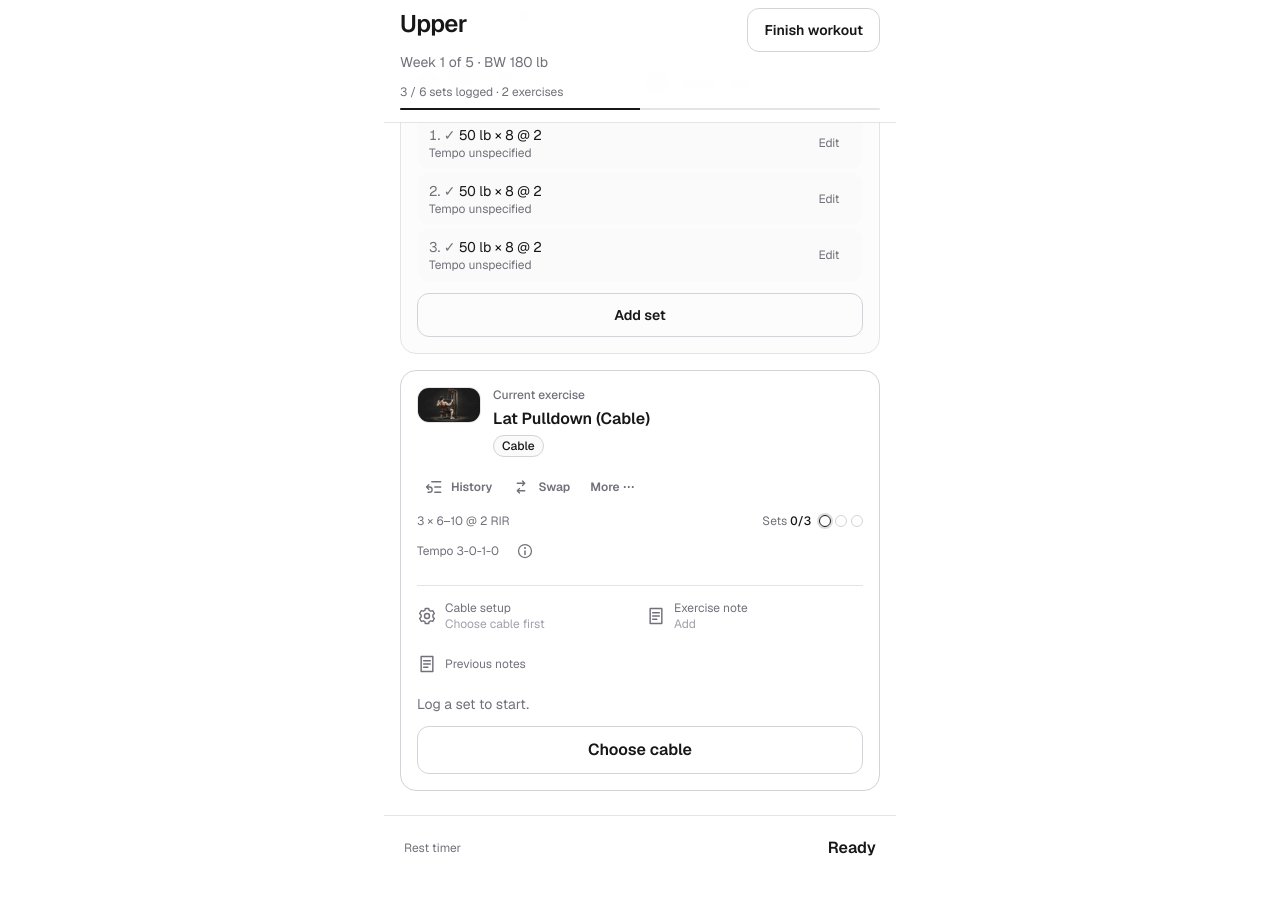
active workout set progress › offers direct station selection for lat-pulldown after the previous exercise completes
(page scrolled)
Check: the element named "Lat Pulldown (Cable) Cable" shows "Current exercise", box [493, 387, 585, 403]
Click the button "Choose cable" at point(640, 750), box [417, 726, 863, 774]
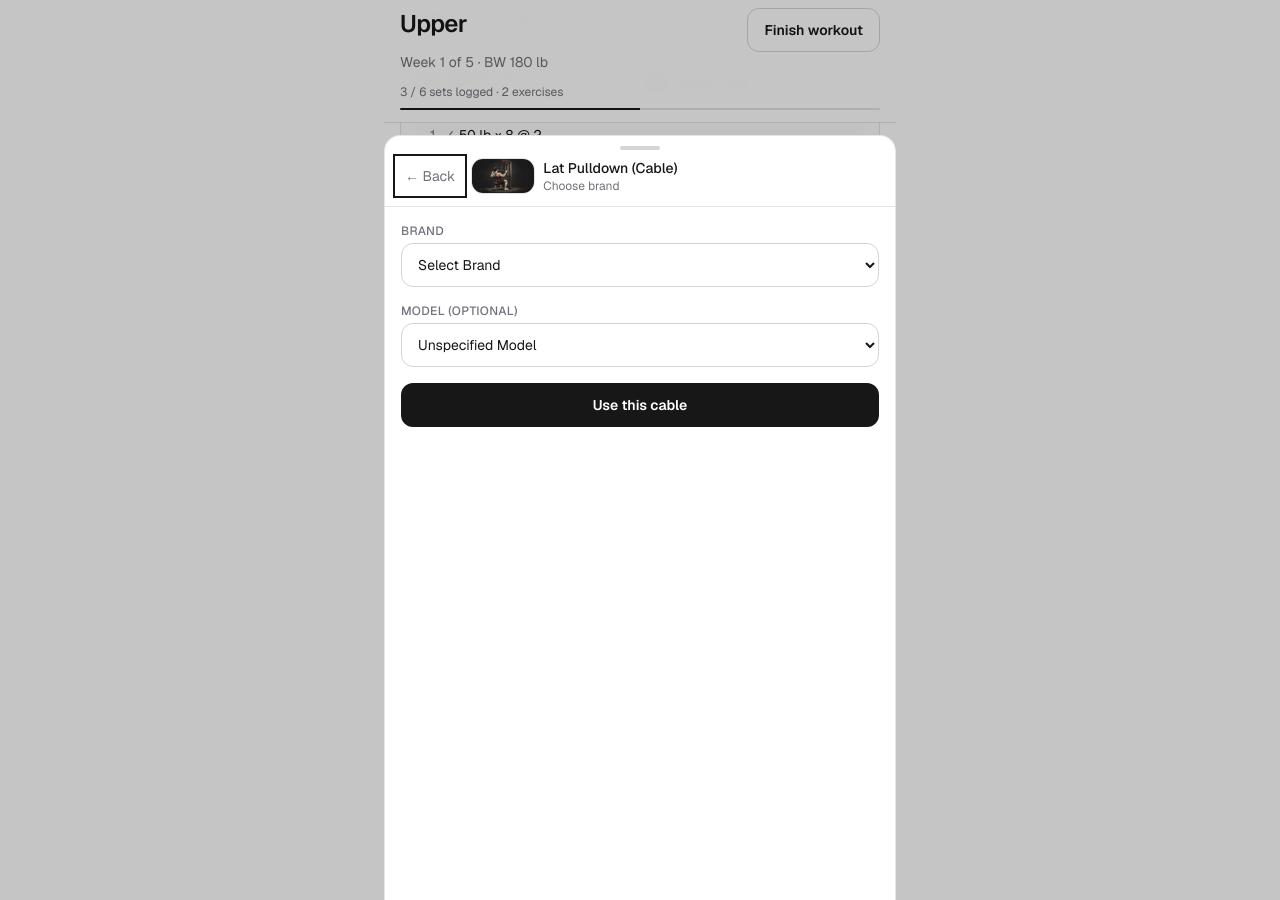
Check: the dialog shows "Use this cable", box [384, 135, 896, 899]
